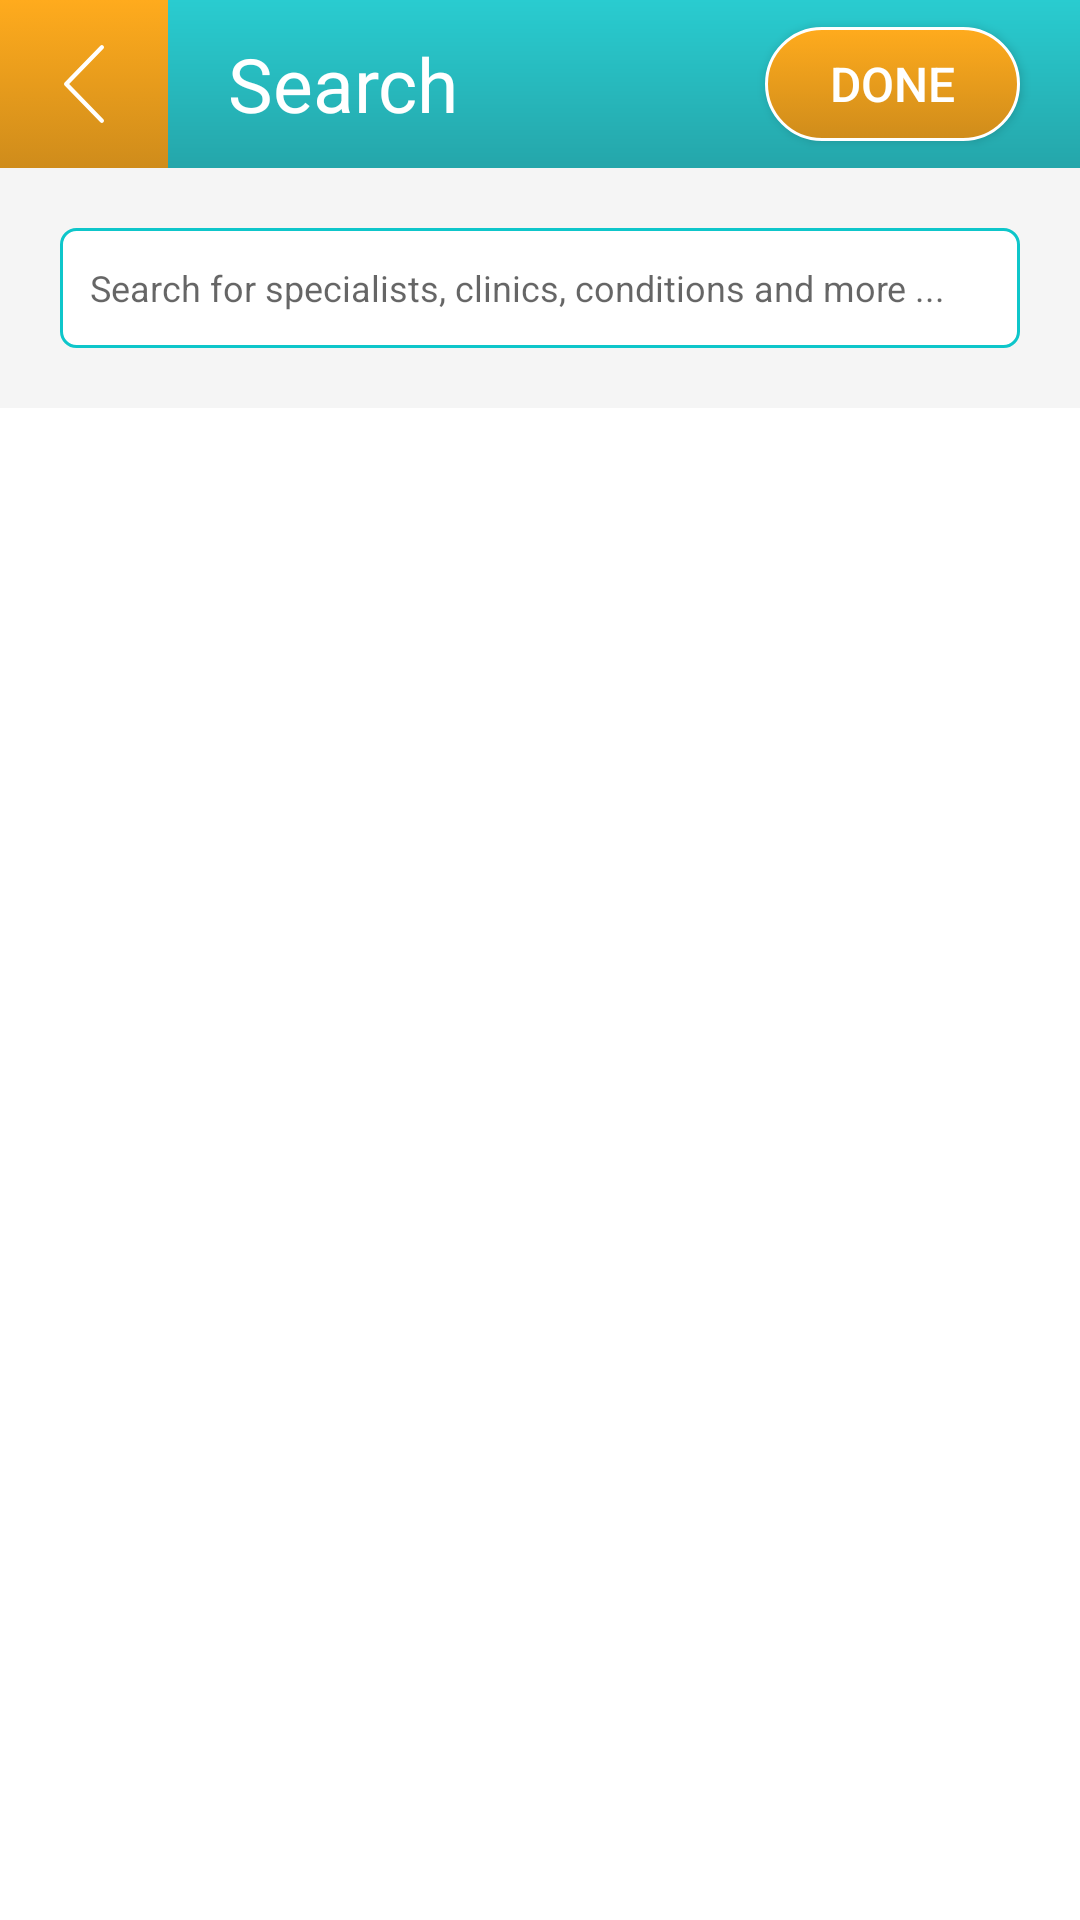

Screen size 1080×1920. Icon name, then its center in pixels as (x=x, y=y):
arrow left: (x=84, y=84)
